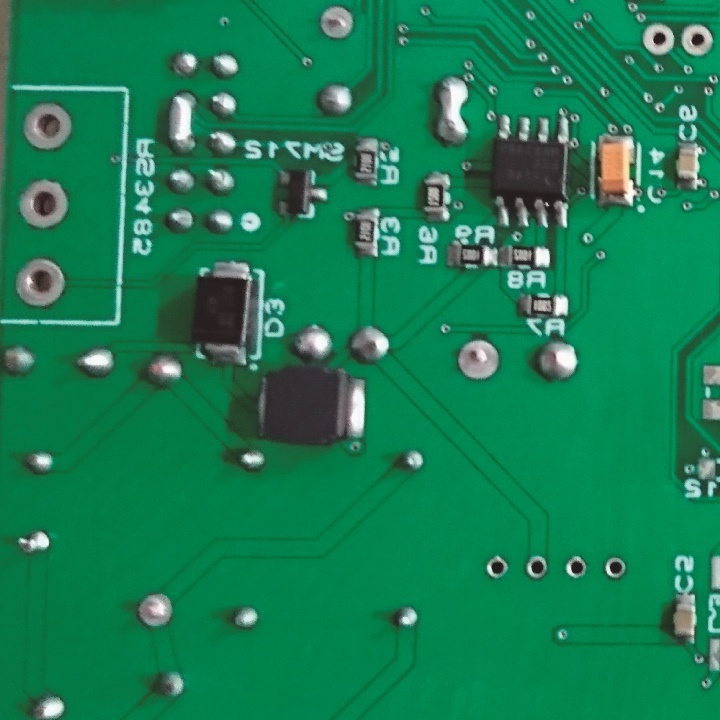F: (14, 256, 67, 309), (18, 178, 70, 232), (454, 332, 504, 387), (21, 100, 73, 152), (134, 589, 174, 629), (318, 3, 354, 41), (641, 21, 676, 58), (679, 21, 713, 58), (521, 552, 550, 580), (483, 552, 510, 580), (602, 552, 628, 580), (563, 553, 587, 582)
P: (434, 74, 472, 147), (164, 88, 198, 154)
